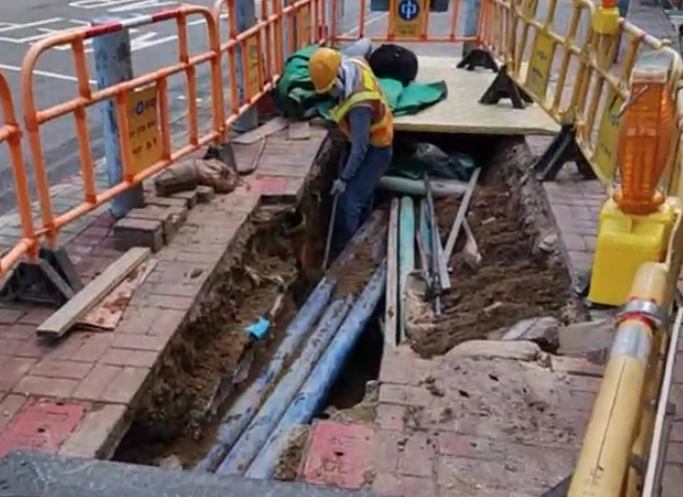Hard Hat: (308, 48, 345, 91)
Person: (310, 43, 393, 243)
Vest: (339, 59, 397, 149)
